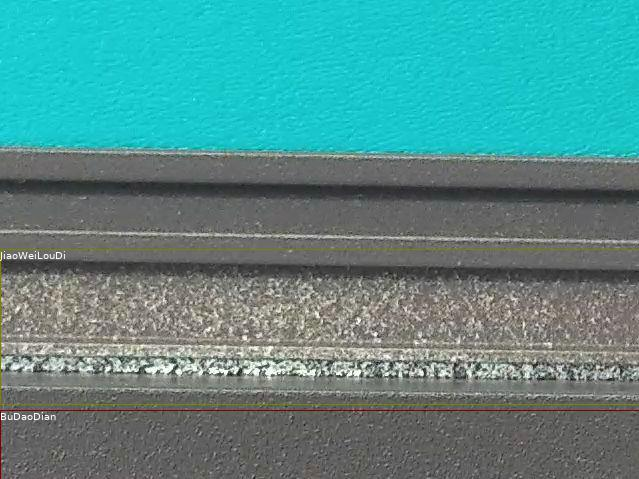BuDaoDian: (0, 410, 639, 479)
JiaoWeiLouDi: (0, 249, 639, 404)
